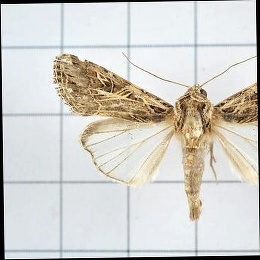Spodoptera litura: (53, 51, 258, 223)
